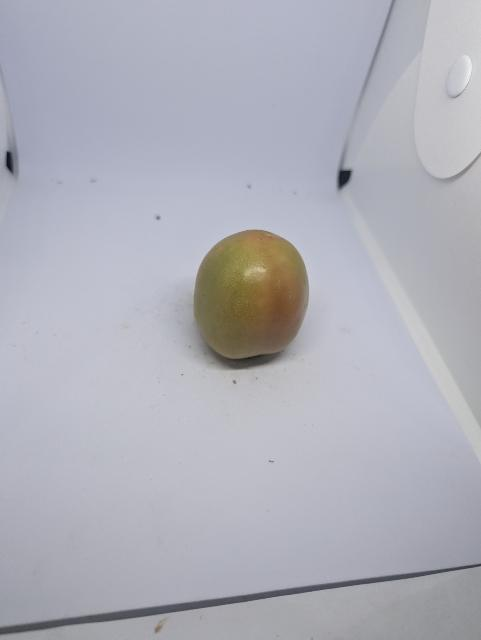breaker: (187, 225, 315, 367)
